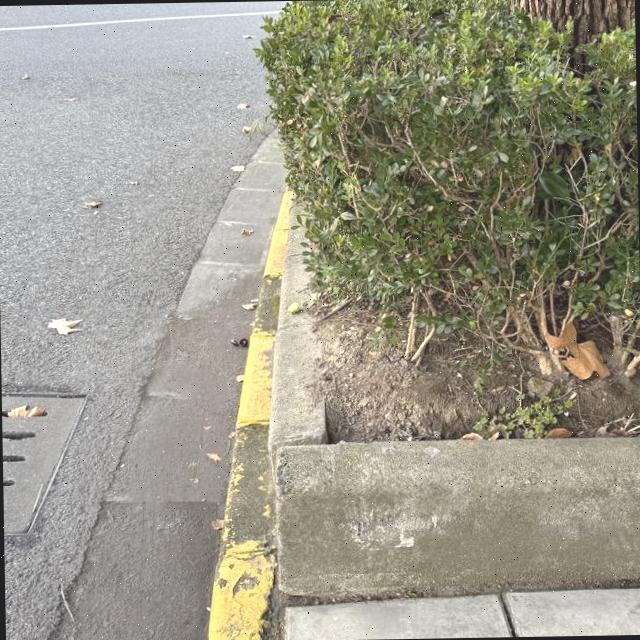curb: (268, 229, 640, 600), (208, 197, 286, 640)
